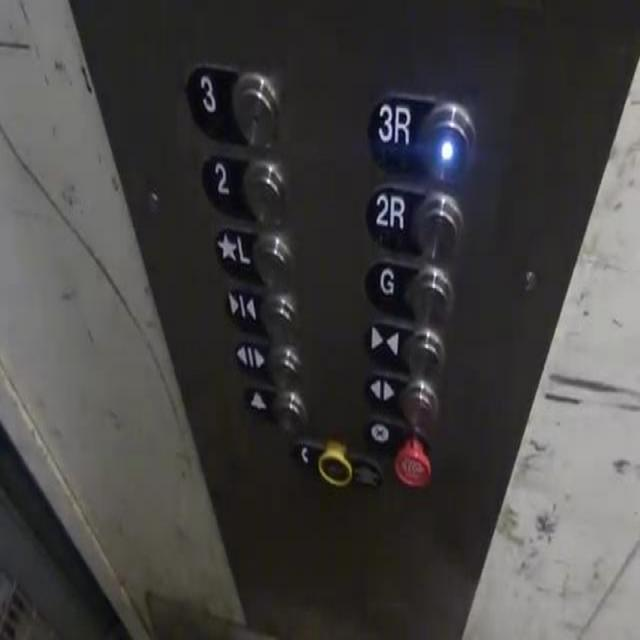2: (200, 152, 288, 223)
2R: (365, 181, 466, 267)
3: (184, 60, 280, 145)
3R: (365, 88, 476, 179)
G: (362, 256, 454, 320)
alarm: (242, 377, 306, 436)
call: (286, 437, 349, 491)
close: (364, 314, 446, 382), (221, 278, 297, 338)
open: (231, 331, 302, 389), (365, 371, 442, 421)
sL: (213, 224, 293, 287)
stop: (366, 416, 436, 485)
